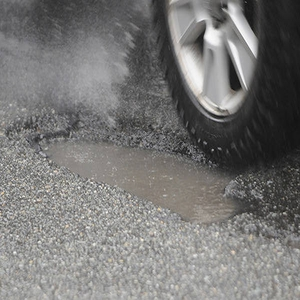pothole: (20, 113, 266, 234)
